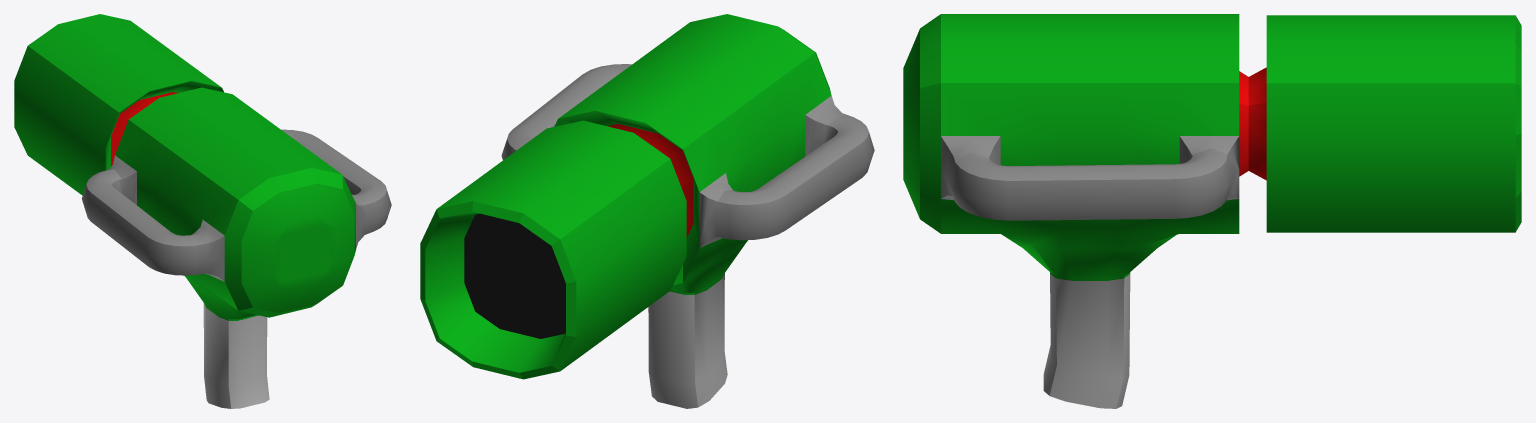
Rendered from BombGun.FBX.
3 views of the same model, side by side, from view 1: azimuth 30°, elevation 25°; view 2: azimuth 150°, elevation 25°; view 3: azimuth 270°, elevation 25° (orthographic). The views are drawn at different scales.
Parts seen in each view (by area): view 1: Launcher; view 2: Launcher; view 3: Launcher.
Part boxes in pixels (bbox=[...]): Launcher: bbox=[14, 14, 391, 408]; Launcher: bbox=[420, 14, 874, 408]; Launcher: bbox=[903, 14, 1521, 408].
Bounding box in the file's own units: 11.44 × 12.32 × 18.72.
1 material, 1 textured.
